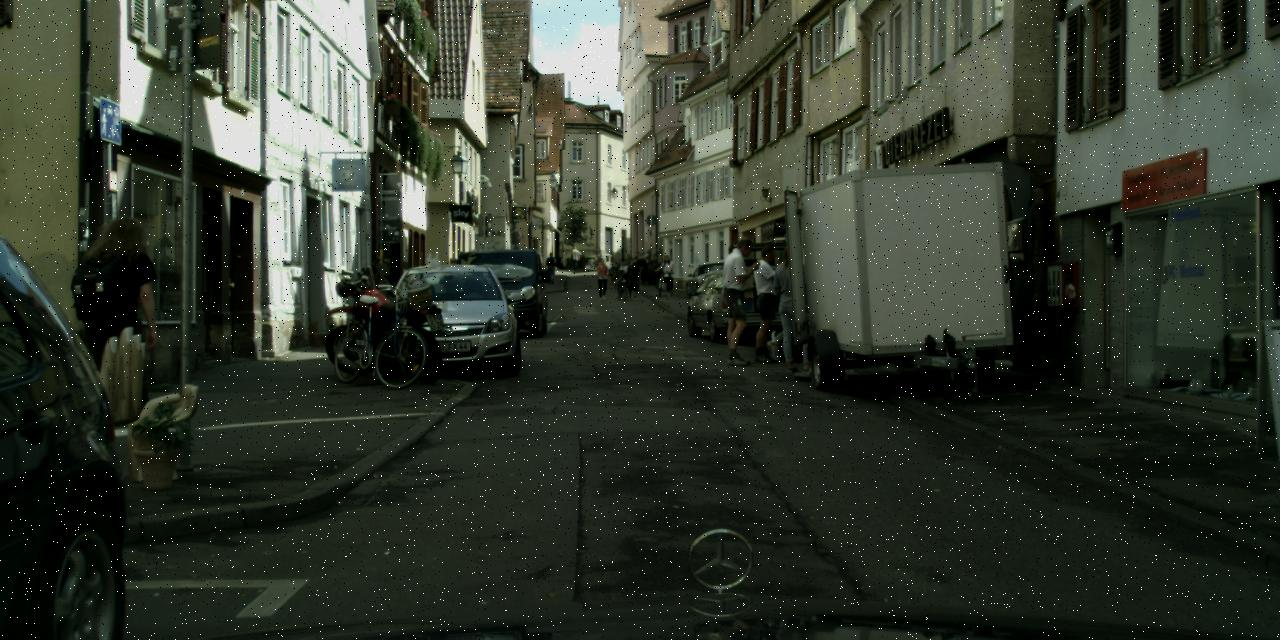ped: (83, 217, 166, 419), (769, 244, 820, 370), (716, 237, 766, 364), (740, 244, 790, 362), (443, 257, 462, 304), (625, 257, 642, 299), (593, 257, 610, 299), (659, 254, 676, 296), (544, 252, 556, 282), (634, 256, 644, 283), (610, 264, 621, 288), (569, 246, 579, 270)
